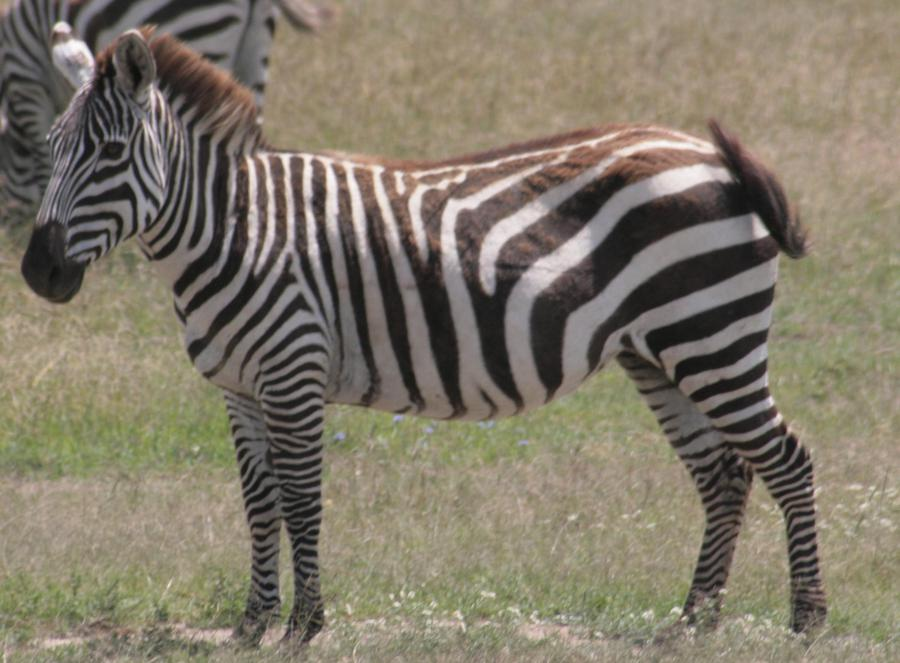zebra_plains: (204, 123, 778, 402)
